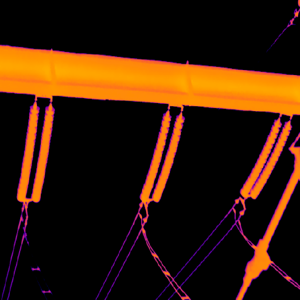insulator: (250, 119, 292, 200), (151, 110, 183, 202), (240, 120, 278, 197), (139, 113, 170, 203), (31, 101, 55, 201), (16, 101, 38, 201)
